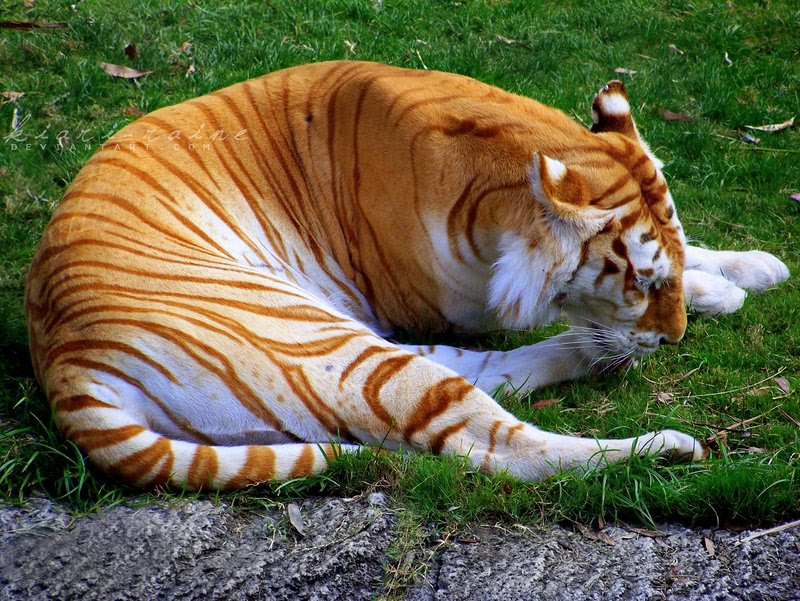Tiger: (21, 27, 800, 479)
